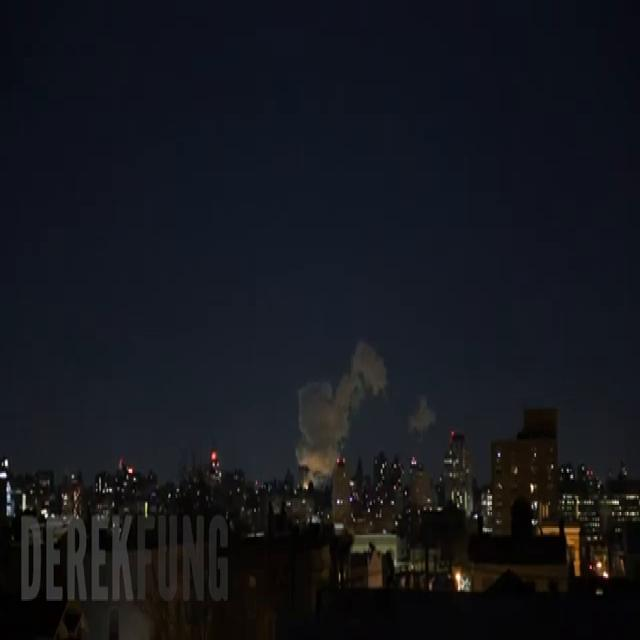smoke: (296, 340, 385, 478)
